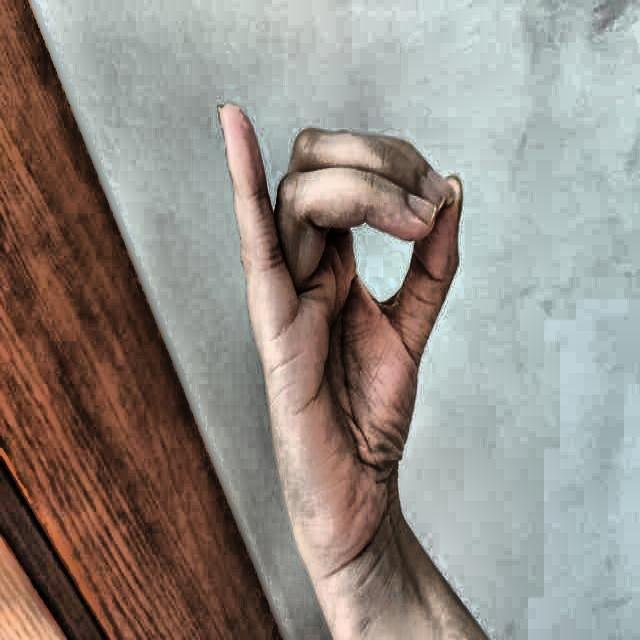Ou: (200, 76, 493, 590)
